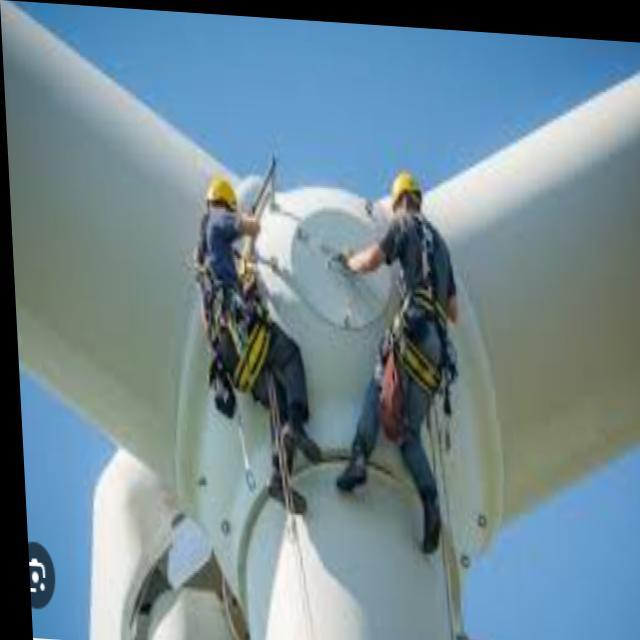boots: (330, 430, 447, 559), (263, 414, 326, 519)
helmet: (384, 165, 425, 210), (202, 173, 244, 215)
